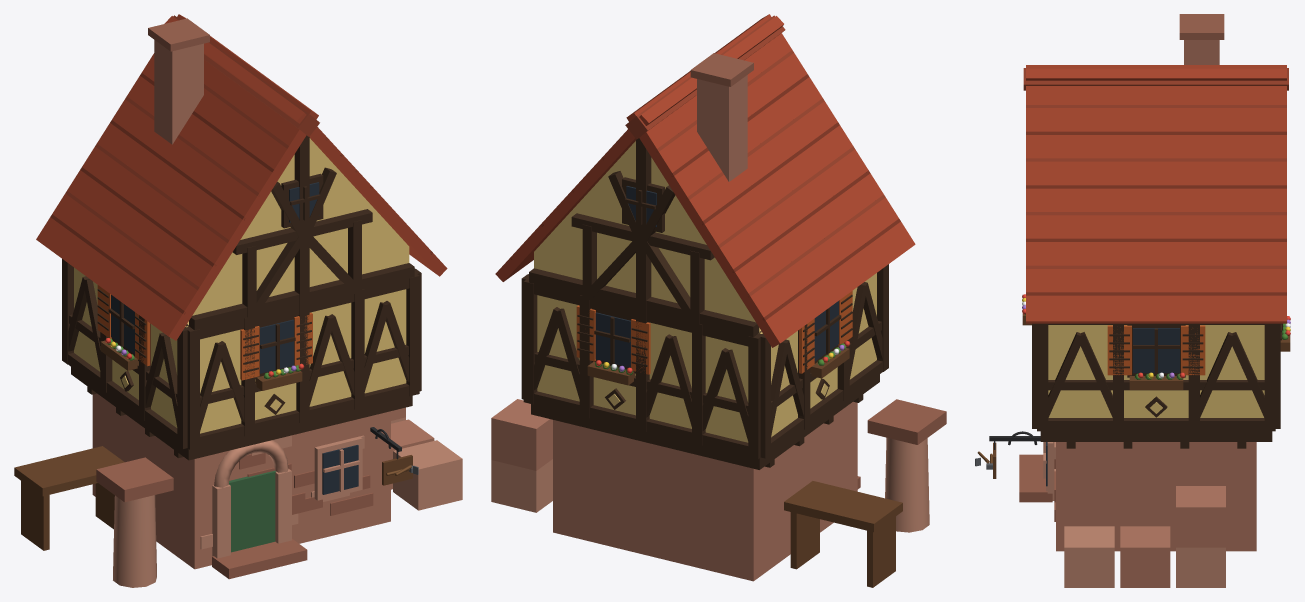
The model's file is steinmetz.glb.
3 views of the same model, side by side, from view 1: azimuth 30°, elevation 25°; view 2: azimuth 150°, elevation 25°; view 3: azimuth 270°, elevation 25° (orthographic). The views are drawn at different scales.
Size of the model in its own units: 3.77 by 4.57 by 2.83.
